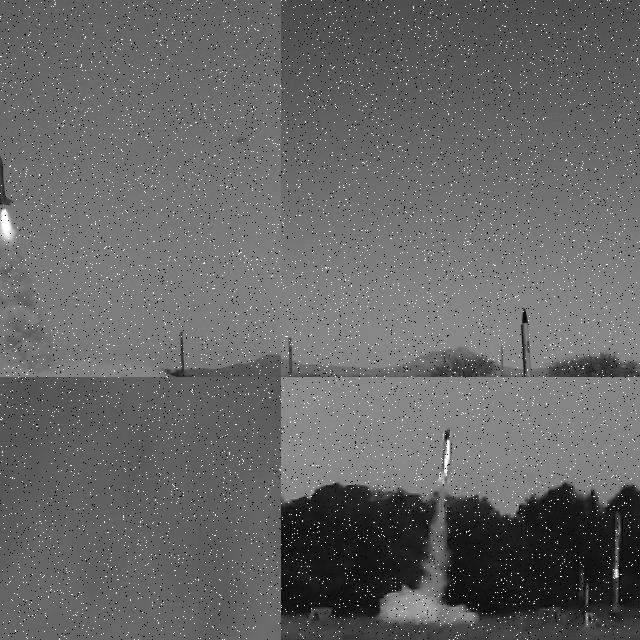Rocket: (519, 307, 537, 377), (610, 510, 622, 614), (436, 426, 456, 486), (0, 151, 14, 205), (576, 568, 585, 601)
